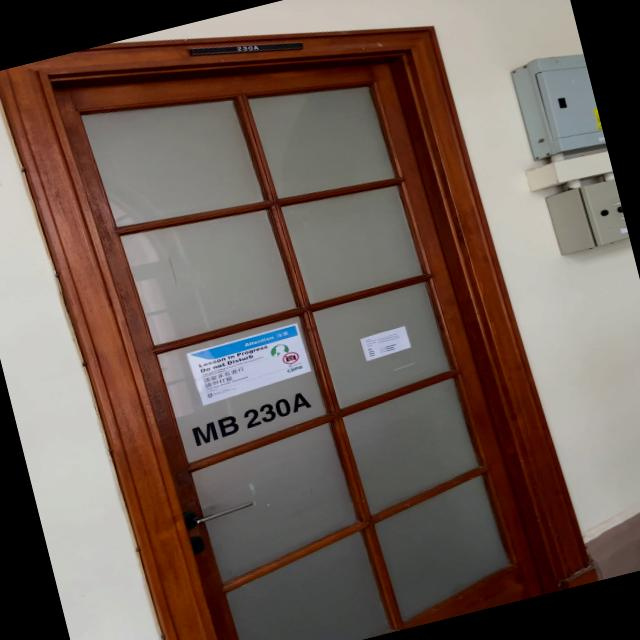room230A: (188, 20, 305, 76)
room230AWindow: (182, 385, 320, 450)
